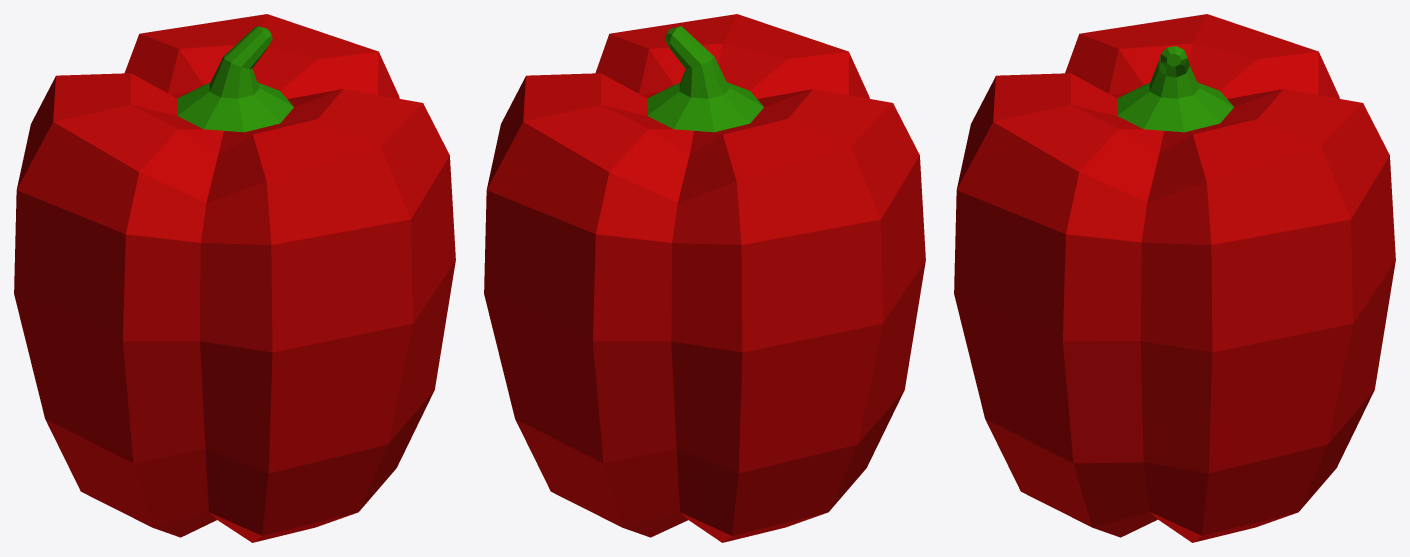
Rendered from pepperfruit01.obj.
3 renders of one model, left to right at view 1: azimuth 30°, elevation 25°; view 2: azimuth 150°, elevation 25°; view 3: azimuth 270°, elevation 25°, orthographic.
Visible parts, largest first — view 1: Cylinder.002; view 2: Cylinder.002; view 3: Cylinder.002.
Part boxes in pixels (box(x1,y1,x2,y2)): Cylinder.002: box(14, 14, 455, 542); Cylinder.002: box(484, 14, 925, 542); Cylinder.002: box(954, 14, 1395, 542).
Bounding box in the file's own units: 0.0766 × 0.0875 × 0.0754.
Materials: 1 (1 with a texture image).
